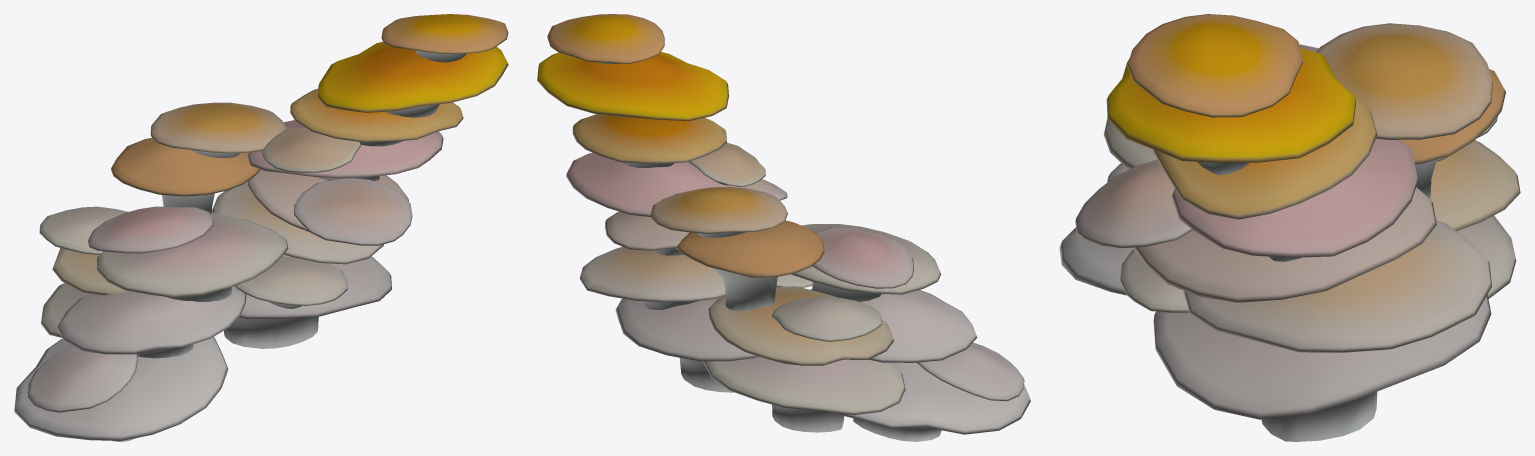
3 views of the same model, side by side, from view 1: azimuth 30°, elevation 25°; view 2: azimuth 150°, elevation 25°; view 3: azimuth 270°, elevation 25° (orthographic). The views are drawn at different scales.
Parts seen in each view (by area): view 1: G:\FFXIV-MapTools\exports\e3f1\bg\ex2\02_est_e3\fld\e3f1\bgp (×4); view 2: G:\FFXIV-MapTools\exports\e3f1\bg\ex2\02_est_e3\fld\e3f1\bgp (×4); view 3: G:\FFXIV-MapTools\exports\e3f1\bg\ex2\02_est_e3\fld\e3f1\bgp (×4).
Boxes of the visible parts, box(x1,y1,x2,y2) form: G:\FFXIV-MapTools\exports\e3f1\bg\ex2\02_est_e3\fld\e3f1\bgp (×4): box(14, 14, 508, 441); G:\FFXIV-MapTools\exports\e3f1\bg\ex2\02_est_e3\fld\e3f1\bgp (×4): box(537, 14, 1030, 441); G:\FFXIV-MapTools\exports\e3f1\bg\ex2\02_est_e3\fld\e3f1\bgp (×4): box(1059, 14, 1520, 441).
Bounding box in the file's own units: 43.23 × 28.96 × 22.41.
